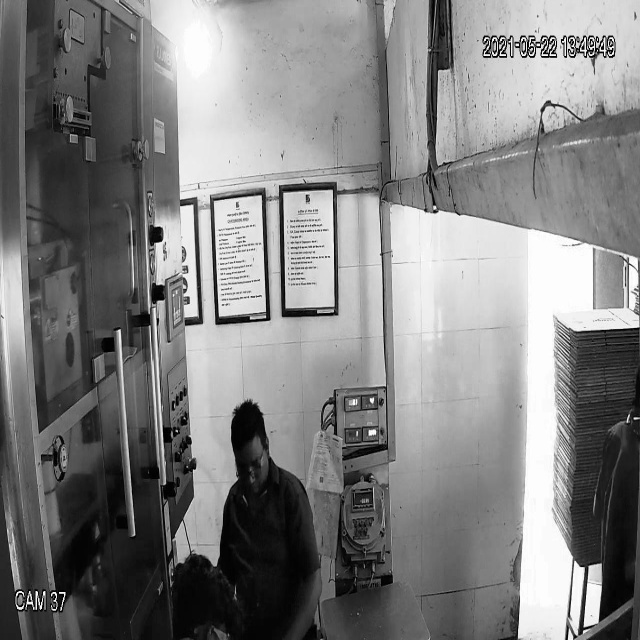Gafas: (230, 453, 272, 483)
